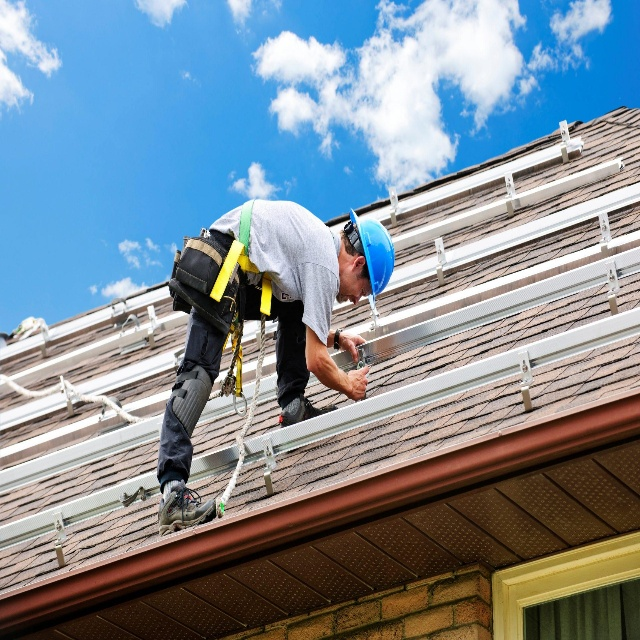Arnes_seguridad: (201, 192, 341, 395)
